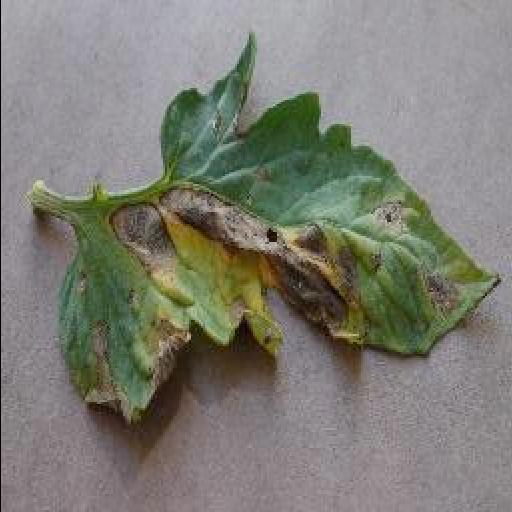disease_tomato: (60, 32, 502, 426)
